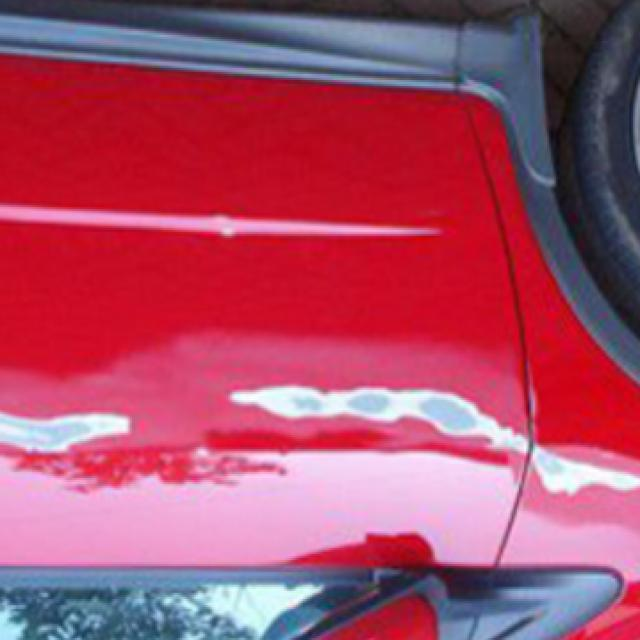scratch: (215, 361, 640, 517), (0, 394, 146, 476)
